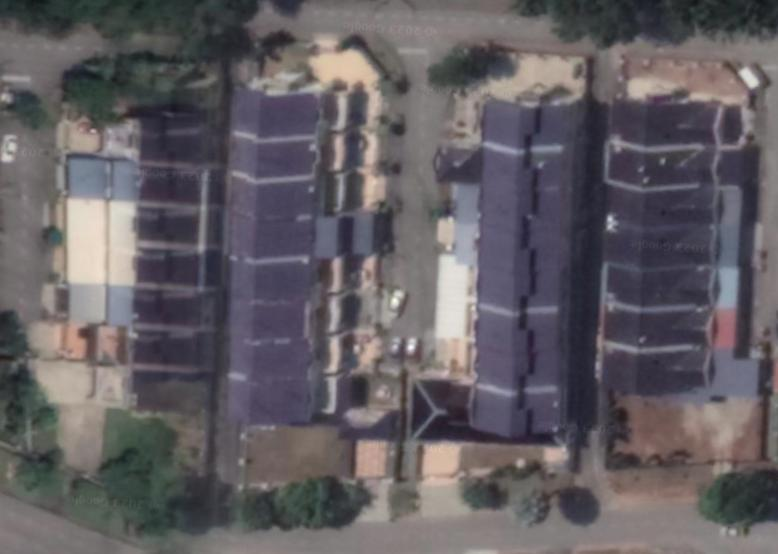building: (607, 93, 751, 153), (594, 334, 719, 399), (481, 89, 584, 161), (228, 75, 326, 147), (598, 293, 723, 345), (604, 174, 730, 224), (604, 215, 728, 265), (603, 134, 728, 183), (600, 258, 724, 307), (135, 106, 224, 173), (469, 391, 566, 445), (478, 150, 579, 199), (476, 269, 573, 320), (228, 137, 323, 188), (476, 231, 576, 279), (471, 352, 568, 401), (225, 216, 313, 268), (473, 312, 571, 358), (219, 382, 313, 429), (225, 262, 313, 311), (478, 195, 576, 239), (129, 373, 215, 423), (223, 304, 313, 349), (227, 179, 315, 225), (222, 344, 311, 388), (133, 169, 218, 214), (134, 209, 219, 254), (129, 336, 217, 377), (132, 295, 217, 336), (133, 253, 219, 293)
